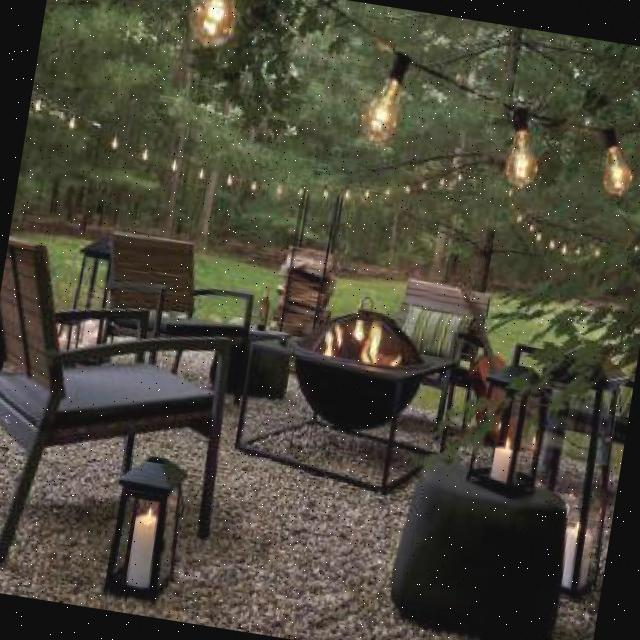fire: (310, 304, 408, 377)
